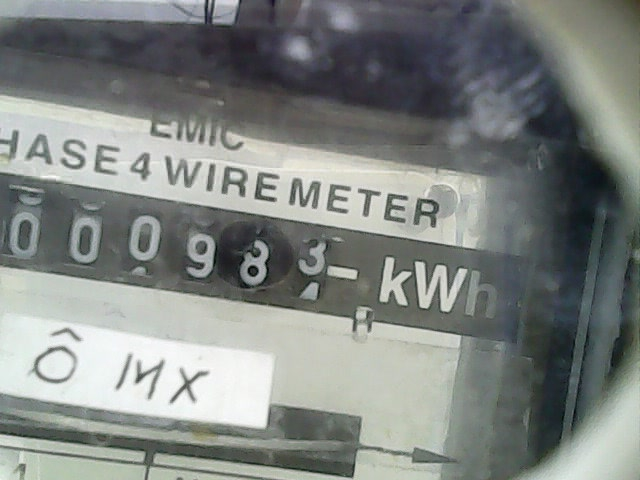phy_plate: (1, 167, 346, 332)
